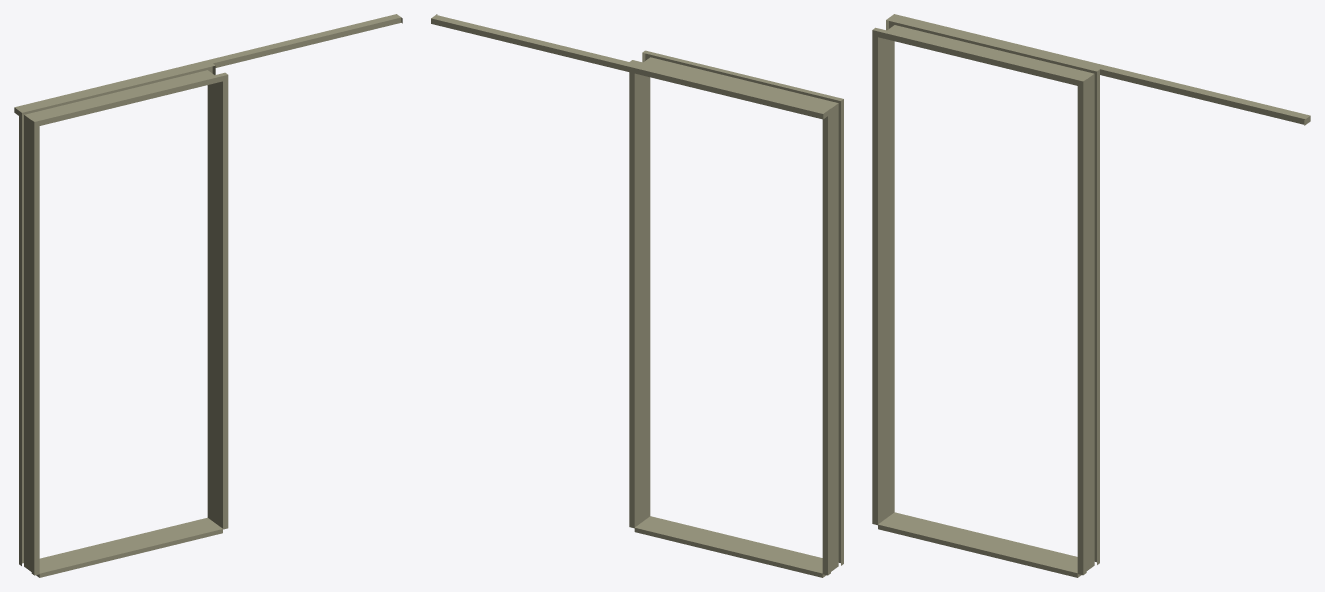
File: door2-waku.FBX
3 views of the same model, side by side, from view 1: azimuth 30°, elevation 25°; view 2: azimuth 150°, elevation 25°; view 3: azimuth 330°, elevation 25° (orthographic). The views are drawn at different scales.
Parts seen in each view (by area): view 1: 63:8:5; view 2: 63:8:5; view 3: 63:8:5.
Part boxes in pixels (left/top/right/bottom): 63:8:5: left=14, top=14, right=402, bottom=577; 63:8:5: left=431, top=14, right=843, bottom=577; 63:8:5: left=872, top=14, right=1310, bottom=577.
Size of the model in its own units: 73.82 by 84.33 by 6.73.
